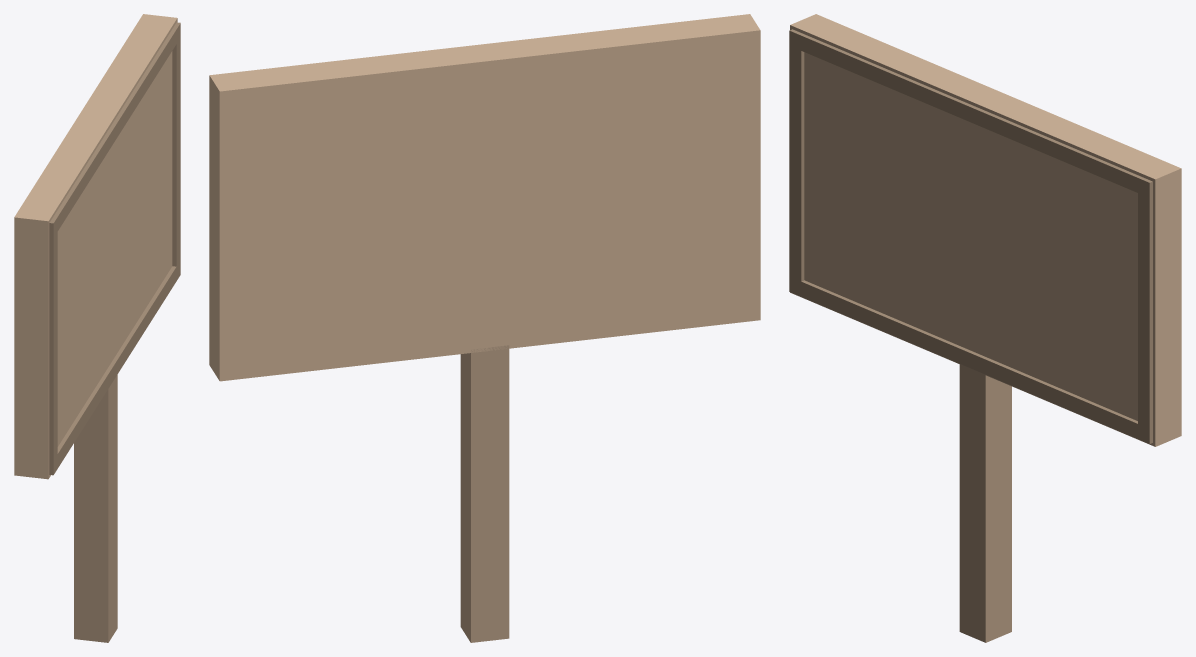
Rendered from sign_jungle_diag.gltf.
The picture shows the model from 3 angles, left to right: view 1: azimuth 30°, elevation 25°; view 2: azimuth 150°, elevation 25°; view 3: azimuth 270°, elevation 25°; orthographic projection. The views are drawn at different scales.
Visible parts, largest first — view 1: sign_jungle_diag; view 2: sign_jungle_diag; view 3: sign_jungle_diag.
Boxes of the visible parts, left/top/right/bottom form: sign_jungle_diag: left=14, top=14, right=180, bottom=642; sign_jungle_diag: left=209, top=14, right=760, bottom=642; sign_jungle_diag: left=789, top=14, right=1181, bottom=642.
Bounding box in the file's own units: 0.664 × 1 × 0.664.
